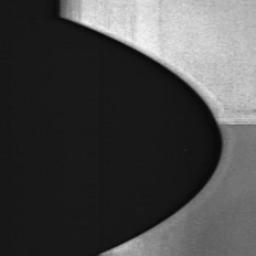Crescent gap: (64, 17, 224, 256)
